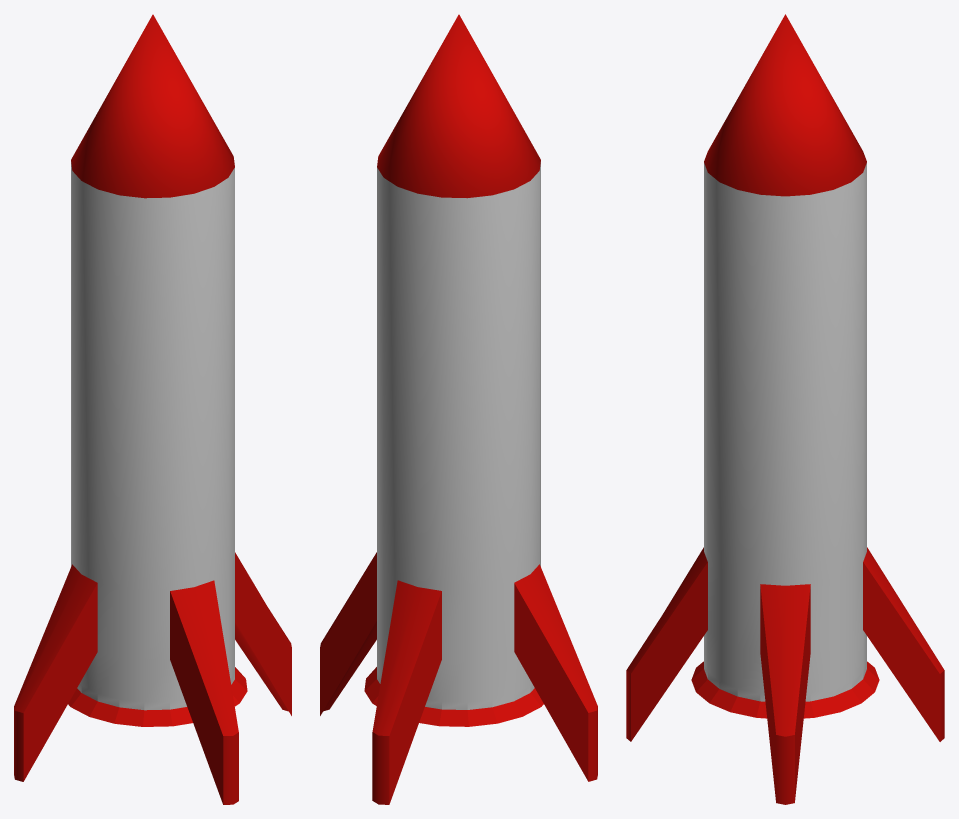
File: EnemySpaceShip.fbx
The picture shows the model from 3 angles, left to right: view 1: azimuth 30°, elevation 25°; view 2: azimuth 150°, elevation 25°; view 3: azimuth 270°, elevation 25°; orthographic projection.
Parts seen in each view (by area): view 1: EnemySpaceShip; view 2: EnemySpaceShip; view 3: EnemySpaceShip.
Boxes of the visible parts, x1,y1,x2,y2 form: EnemySpaceShip: [14, 14, 291, 804]; EnemySpaceShip: [320, 14, 597, 804]; EnemySpaceShip: [626, 14, 944, 804].
Bounding box in the file's own units: 3.87 × 9.79 × 3.9.
